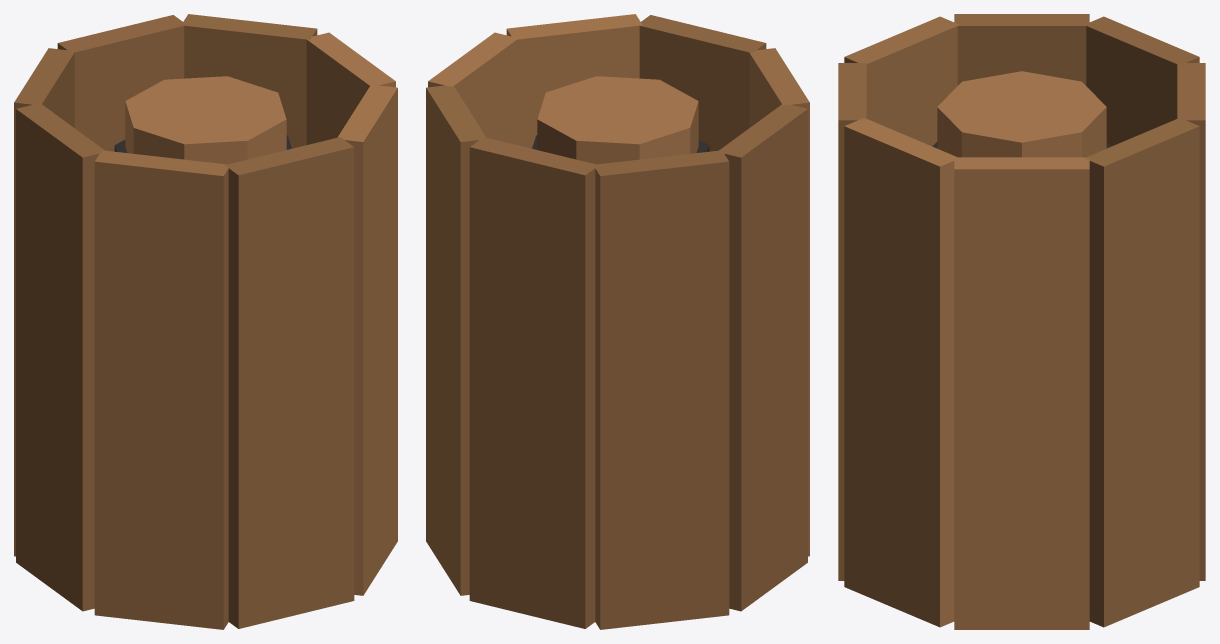
The model's file is barrel.glb.
The picture shows the model from 3 angles, left to right: view 1: azimuth 30°, elevation 25°; view 2: azimuth 150°, elevation 25°; view 3: azimuth 270°, elevation 25°; orthographic projection.
Visible parts, largest first — view 1: props/barrel; view 2: props/barrel; view 3: props/barrel.
Part boxes in pixels (box(x1,y1,x2,y2)): props/barrel: box(14, 14, 397, 629); props/barrel: box(426, 14, 809, 629); props/barrel: box(838, 14, 1205, 629).
Size of the model in its own units: 0.65 by 0.9 by 0.65.
